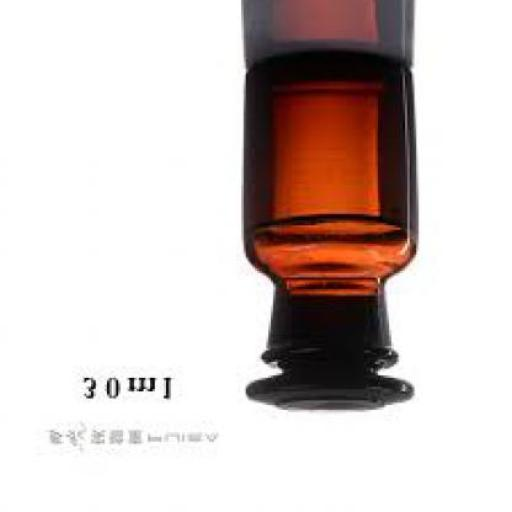glass: (239, 50, 416, 414)
